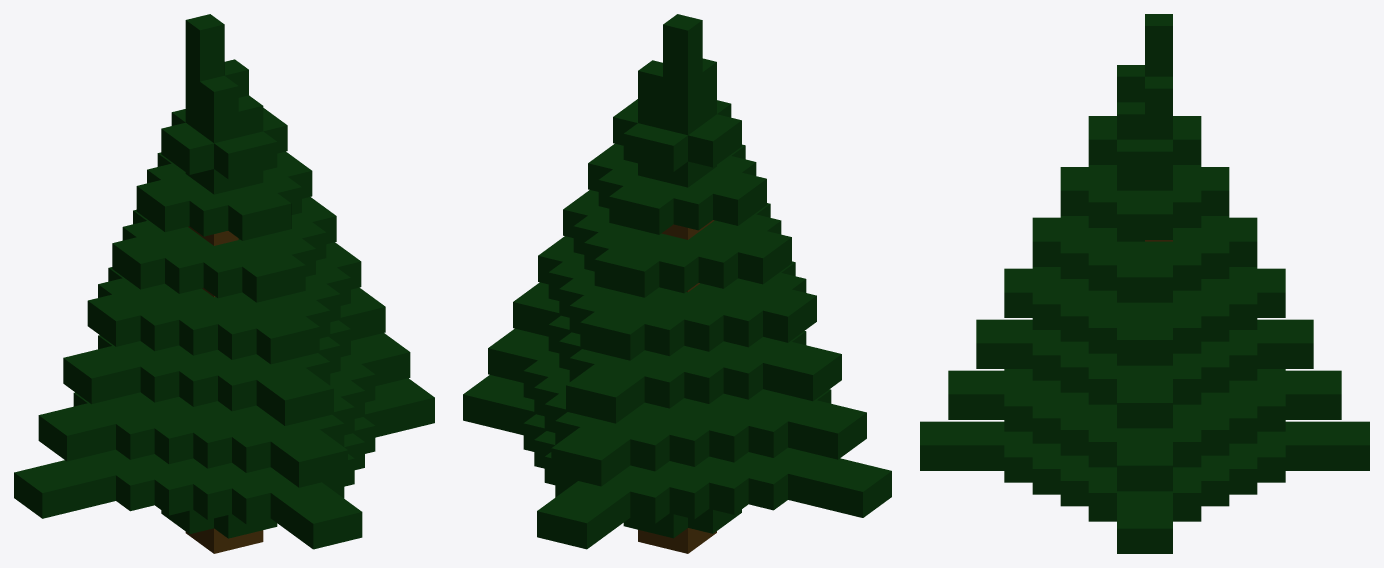
Rendered from Spruce1.obj.
3 views of the same model, side by side, from view 1: azimuth 30°, elevation 25°; view 2: azimuth 150°, elevation 25°; view 3: azimuth 270°, elevation 25° (orthographic). The views are drawn at different scales.
Visible parts, largest first — view 1: Spruce1; view 2: Spruce1; view 3: Spruce1.
Boxes of the visible parts, bbox=[...] form: Spruce1: bbox=[14, 14, 434, 553]; Spruce1: bbox=[463, 14, 891, 553]; Spruce1: bbox=[920, 14, 1369, 553].
Size of the model in its own units: 16 by 20 by 16.
1 material, 1 textured.
